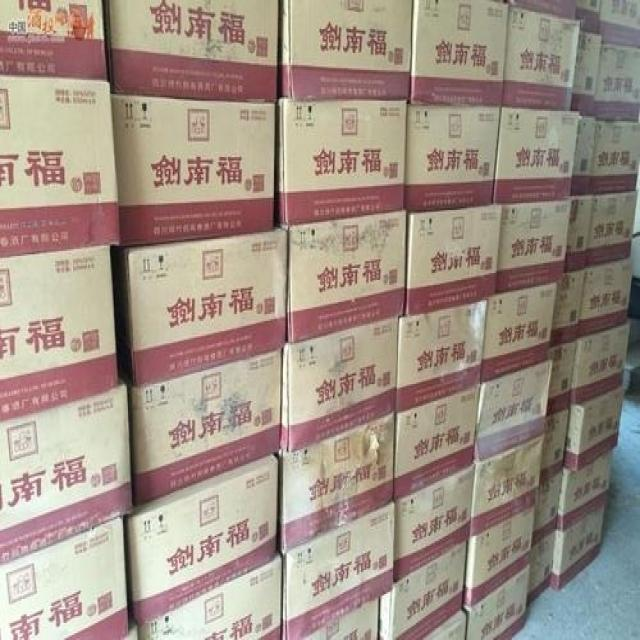box: (113, 229, 285, 386), (125, 454, 278, 623), (113, 94, 275, 247), (0, 386, 133, 561), (131, 350, 280, 505), (0, 75, 120, 256), (0, 247, 119, 418), (274, 97, 408, 227), (106, 0, 278, 101), (279, 411, 396, 555), (282, 314, 398, 451), (0, 515, 127, 640), (287, 210, 406, 343), (284, 502, 394, 640), (278, 0, 412, 97), (137, 555, 280, 640), (408, 203, 502, 317), (396, 299, 488, 415), (403, 104, 500, 213), (411, 0, 508, 104), (394, 386, 480, 498), (394, 466, 475, 580), (379, 543, 467, 640), (500, 7, 582, 111), (493, 106, 580, 203), (0, 0, 109, 77), (474, 358, 552, 464), (480, 282, 558, 381), (470, 433, 544, 536), (497, 198, 572, 295), (465, 502, 536, 599), (466, 561, 531, 640), (564, 389, 625, 473), (573, 321, 630, 404), (552, 503, 604, 592), (579, 256, 632, 340), (557, 449, 614, 527), (586, 191, 637, 270), (591, 119, 640, 193), (595, 41, 640, 118), (302, 601, 380, 640), (572, 32, 603, 113), (554, 270, 586, 346), (541, 410, 571, 485), (532, 473, 562, 546), (548, 343, 577, 416), (566, 196, 593, 273), (598, 0, 640, 48), (573, 116, 598, 195), (530, 532, 557, 602), (411, 611, 466, 640), (507, 0, 575, 19), (575, 2, 602, 34)
